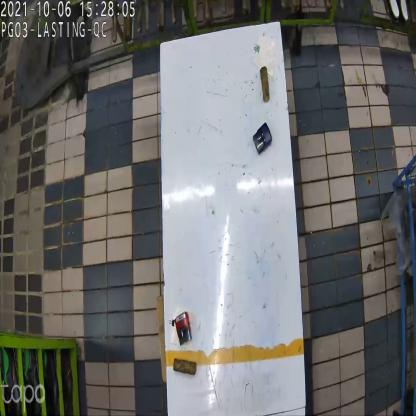stamp: (172, 314, 196, 345), (254, 121, 273, 156)
